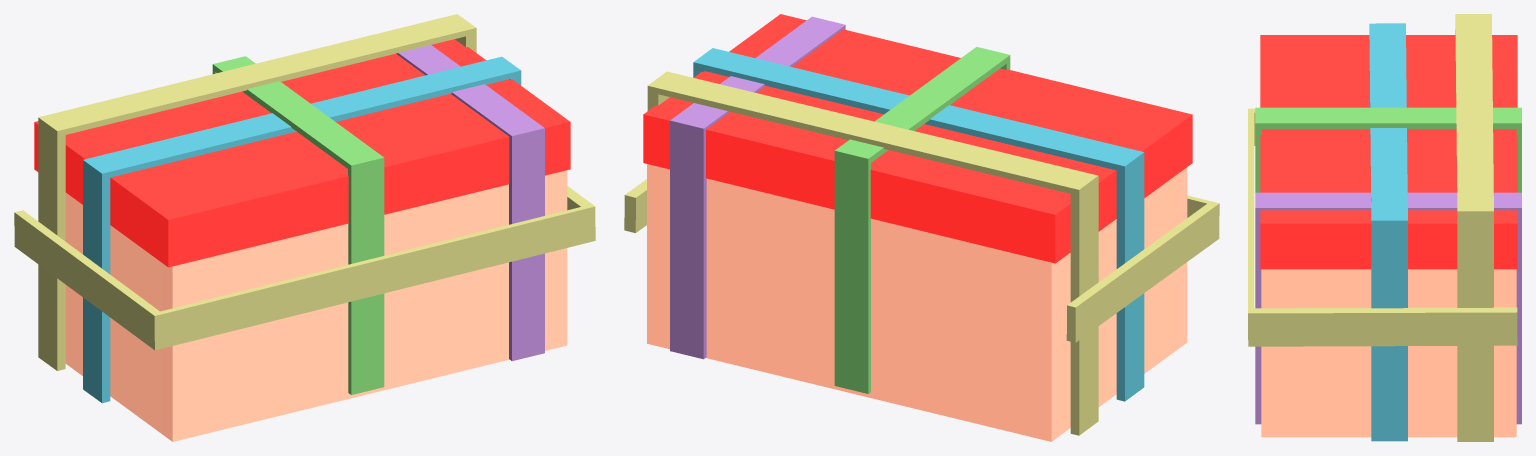
Rendered from new_case.fbx.
3 renders of one model, left to right at view 1: azimuth 30°, elevation 25°; view 2: azimuth 150°, elevation 25°; view 3: azimuth 270°, elevation 25°, orthographic. The views are drawn at different scales.
Visible parts, largest first — view 1: Cube.001, Cube, Cube.006, Cube.005, Cube.003, Cube.002, Cube.004; view 2: Cube.001, Cube, Cube.005, Cube.003, Cube.002, Cube.004, Cube.006; view 3: Cube, Cube.001, Cube.005, Cube.003, Cube.006, Cube.004, Cube.002.
Boxes of the visible parts, <box> form: Cube.001: <box>65,170,567,441</box>; Cube: <box>34,39,570,267</box>; Cube.006: <box>14,186,595,350</box>; Cube.005: <box>38,14,476,370</box>; Cube.003: <box>83,56,521,403</box>; Cube.002: <box>212,56,384,394</box>; Cube.004: <box>396,45,544,361</box>; Cube.001: <box>647,164,1187,441</box>; Cube: <box>643,14,1192,263</box>; Cube.005: <box>647,71,1098,435</box>; Cube.003: <box>693,48,1144,401</box>; Cube.002: <box>834,47,1010,393</box>; Cube.004: <box>670,16,845,359</box>; Cube.006: <box>624,179,1219,342</box>; Cube: <box>1260,35,1517,269</box>; Cube.001: <box>1261,269,1516,437</box>; Cube.005: <box>1455,14,1493,441</box>; Cube.003: <box>1369,23,1407,441</box>; Cube.006: <box>1248,108,1517,346</box>; Cube.004: <box>1255,192,1521,424</box>; Cube.002: <box>1255,107,1521,192</box>.
Bounding box in the file's own units: 339 × 177 × 190.
